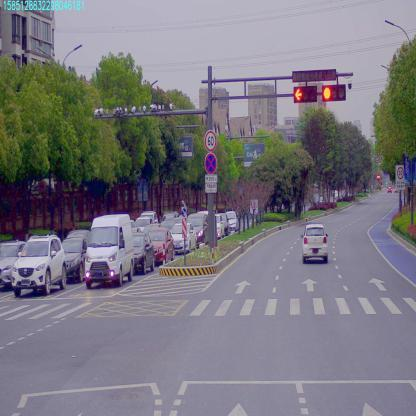traffic-light: (292, 86, 315, 102), (324, 88, 346, 101)
